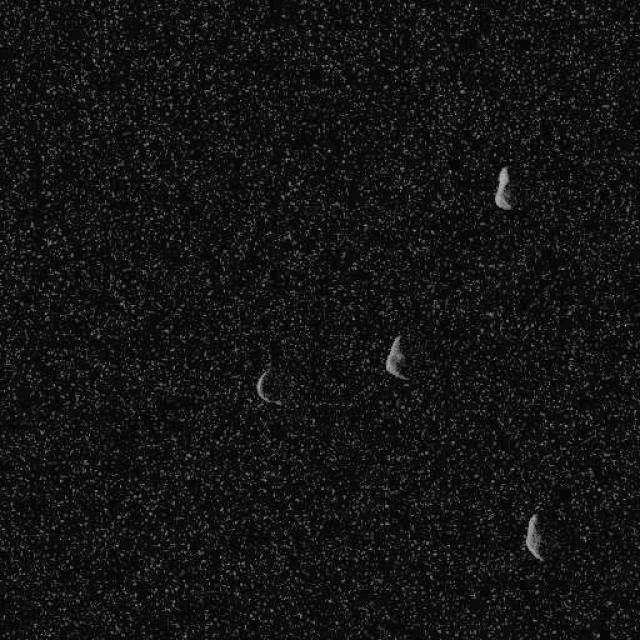D2: (384, 334, 410, 381), (255, 366, 283, 406), (524, 512, 545, 562), (492, 165, 512, 210)
